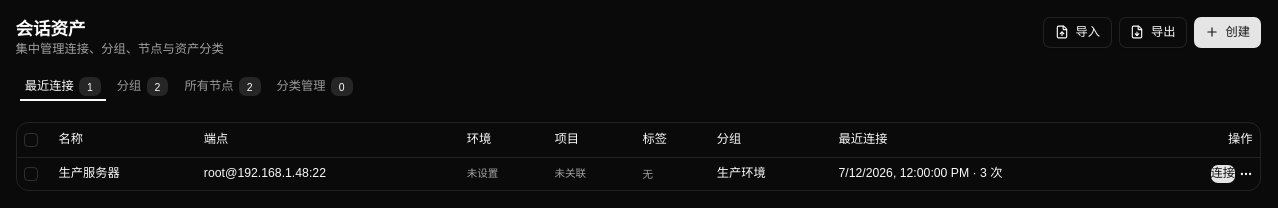
Test case: SessionAssetCenter › offers session and folder creation from one menu
The image size is (1278, 208).
Click the button "创建" at (1227, 32), box [1194,16,1260,48]
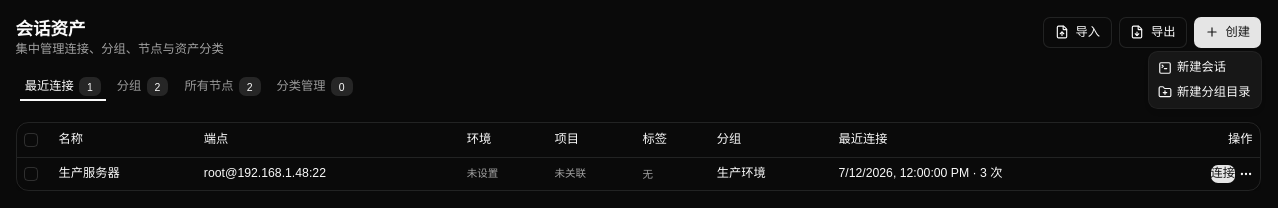
Result: the menu item "新建会话" is shown at [1158,60,1226,75]
Result: the menu item "新建分组目录" is shown at [1152,80,1258,104]
